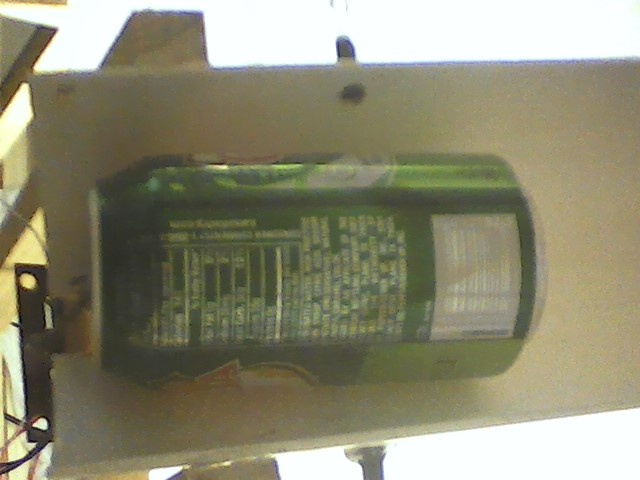lata: (86, 145, 554, 402)
